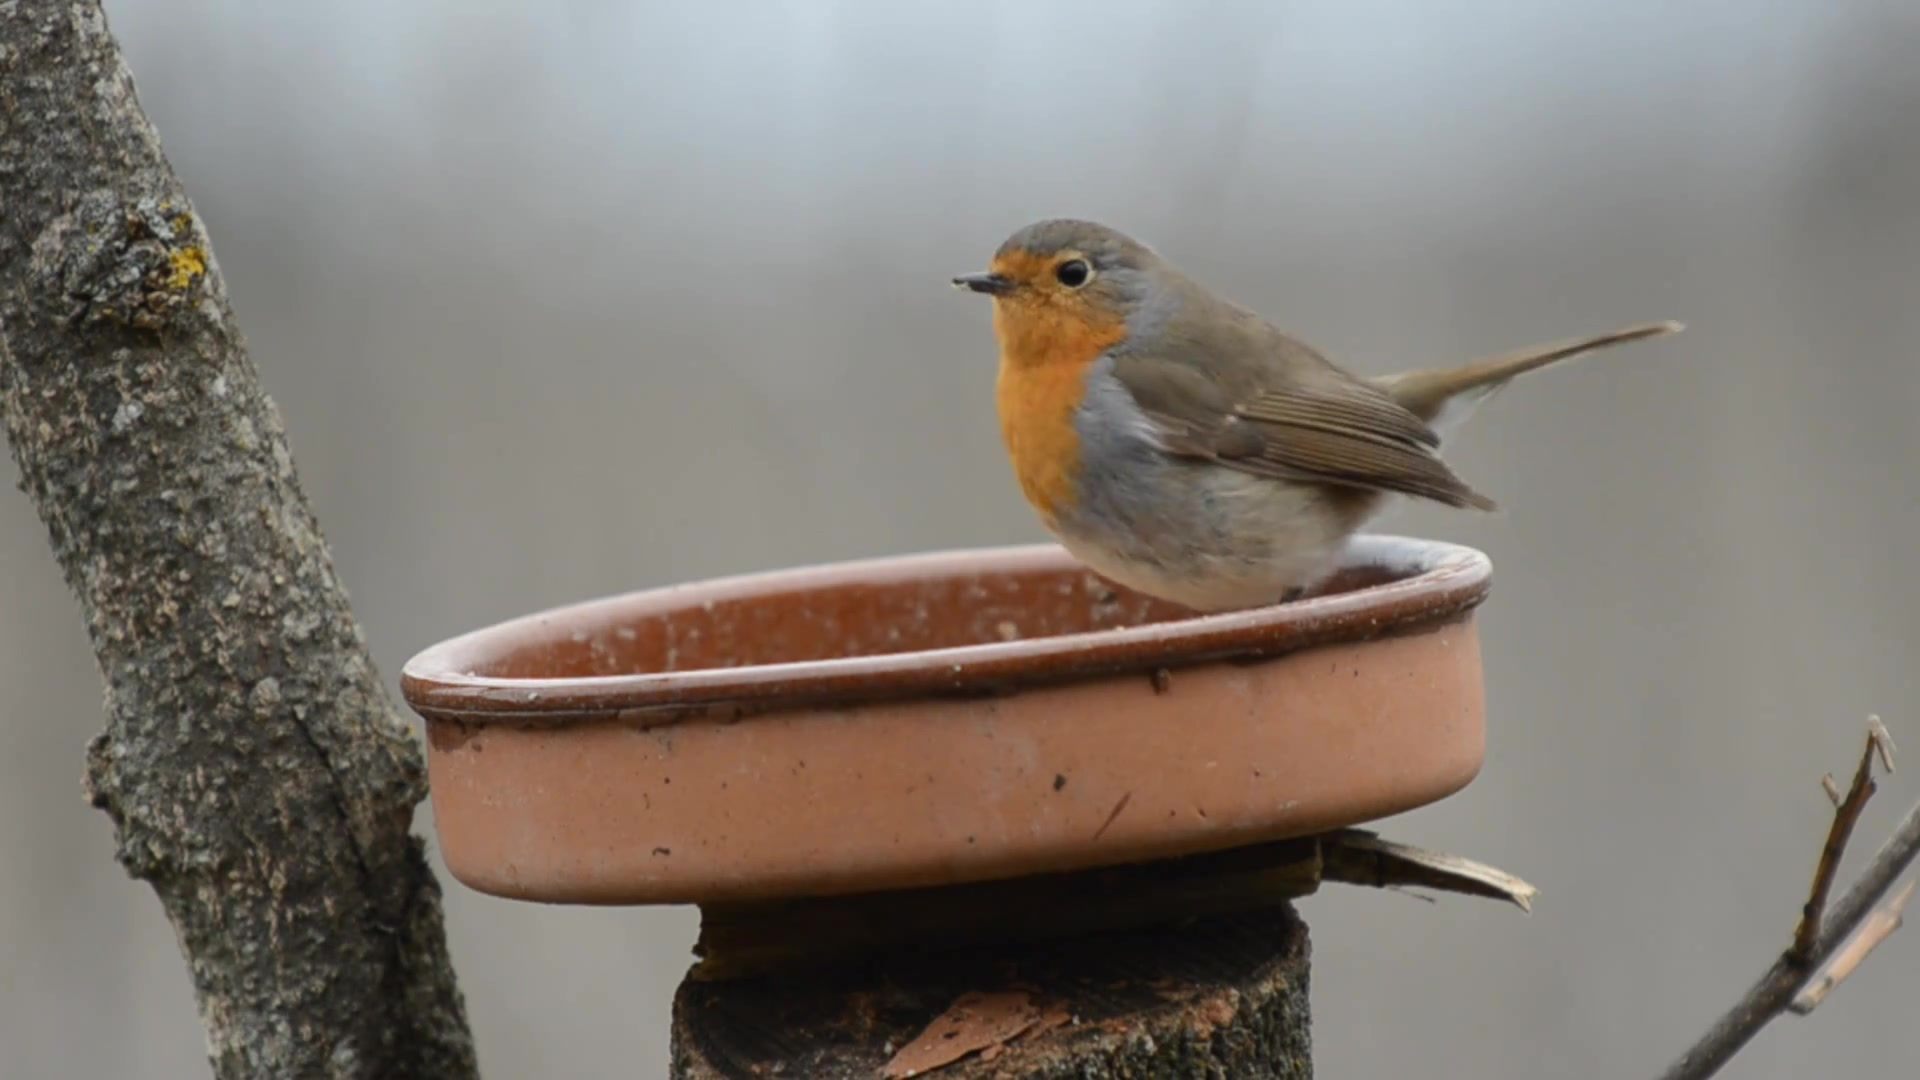bird: (951, 215, 1687, 618)
